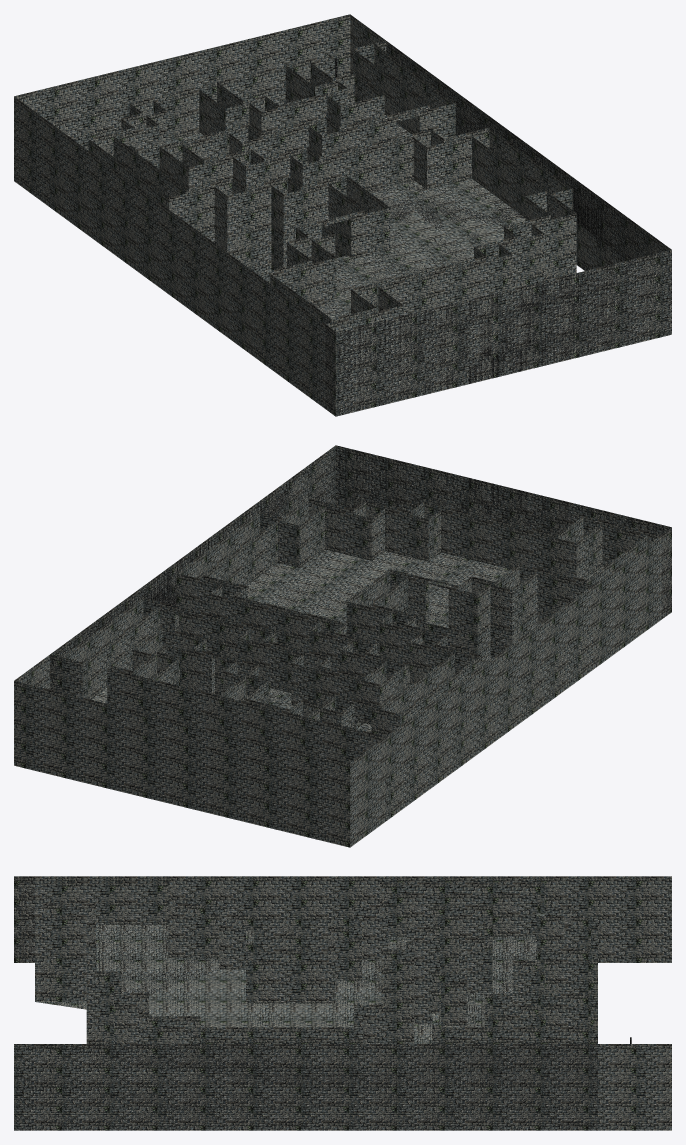
File: Odd Cave Maze-1.fbx
3 views of the same model, one above another, from view 1: azimuth 30°, elevation 25°; view 2: azimuth 150°, elevation 25°; view 3: azimuth 270°, elevation 25° (orthographic). The views are drawn at different scales.
Visible parts, largest first — view 1: Model; view 2: Model; view 3: Model.
Part boxes in pixels (box(x1,y1,x2,y2)): Model: box(14, 14, 671, 416); Model: box(14, 445, 671, 847); Model: box(14, 876, 671, 1130).
Bounding box in the file's own units: 995 × 240 × 1650.
